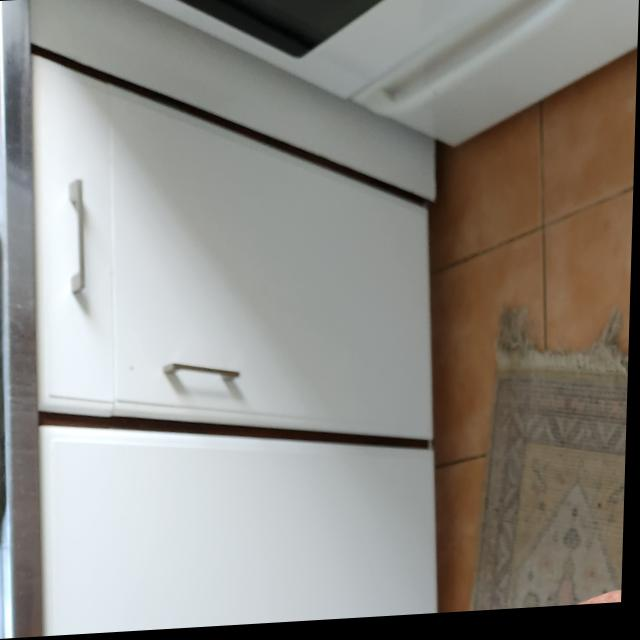kumara: (538, 591, 626, 614)
